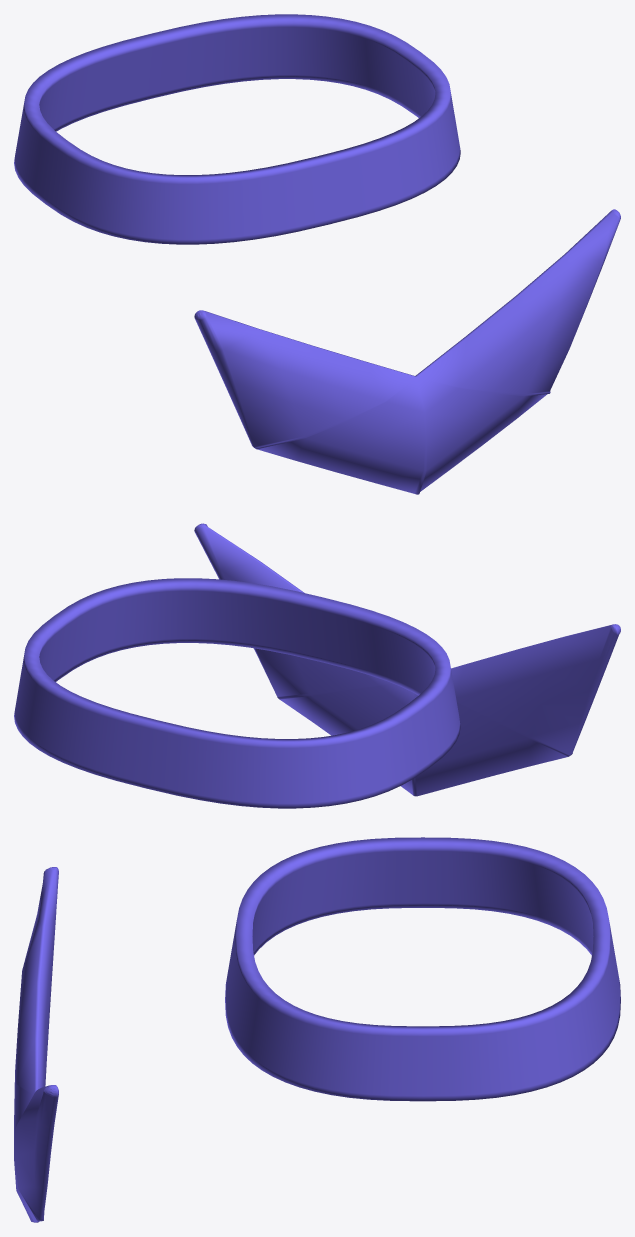
Rendered from squire_scarf.glb.
3 renders of one model, top to bottom at view 1: azimuth 30°, elevation 25°; view 2: azimuth 150°, elevation 25°; view 3: azimuth 270°, elevation 25°, orthographic. The views are drawn at different scales.
Parts seen in each view (by area): view 1: squire_scarf__neck_wrap, squire_scarf__front_fold; view 2: squire_scarf__neck_wrap, squire_scarf__front_fold; view 3: squire_scarf__neck_wrap, squire_scarf__front_fold.
Part boxes in pixels (<box>): squire_scarf__neck_wrap: <box>14,14,460,244</box>; squire_scarf__front_fold: <box>194,209,620,494</box>; squire_scarf__neck_wrap: <box>14,578,460,808</box>; squire_scarf__front_fold: <box>194,523,620,796</box>; squire_scarf__neck_wrap: <box>225,837,620,1101</box>; squire_scarf__front_fold: <box>14,867,58,1222</box>.
Size of the model in its own units: 0.612 by 0.367 by 0.7021.
